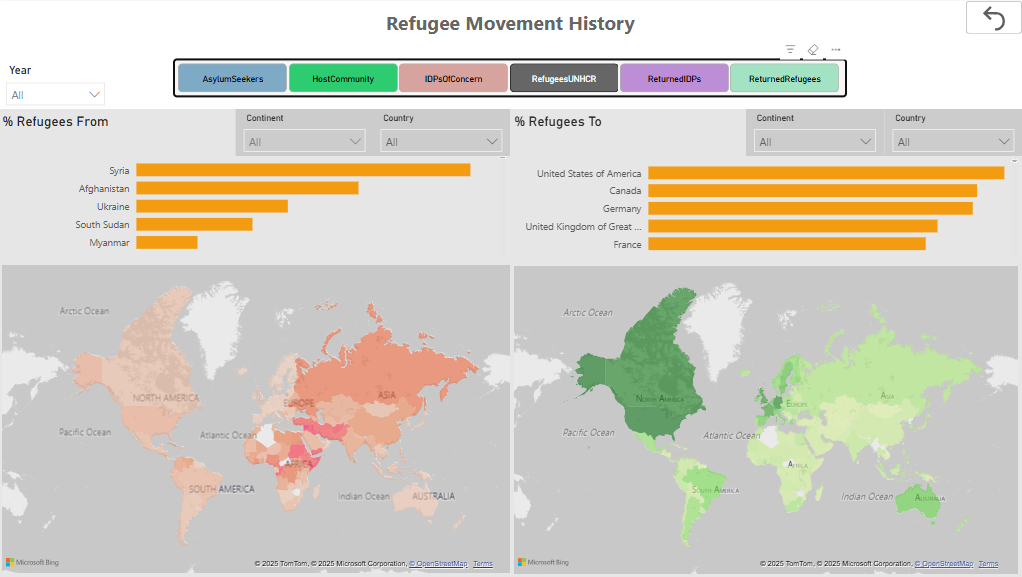

What the dashboard file says about the page in this screenshot:
{"tool":"powerbi","page":{"name":"Dashboard","canvas":[1280,720],"ordinal":0},"visuals":[{"type":"textbox","box":[462,5,356,47],"z":0},{"type":"slicer","fields":{"Values":["YearDim.Year"]},"box":[1122,56,143,61],"z":1000},{"type":"advancedSlicerVisual","fields":{"Values":["PopulationTypeDim.PopulationType"]},"box":[220,73,840,46],"z":2000},{"type":"filledMap","title":"Refugees Fleeing From","fields":{"Category":["RefugeeFact.CountryOrigin"]},"box":[0,325.5,648.2,394.5],"z":3000},{"type":"filledMap","title":"Refugee Fleeing To","fields":{"Category":["RefugeeFact.CountryAsylum"]},"box":[640,326.2,640,393.8],"z":4000},{"type":"group","id":"g1","title":"Group 1","box":[0,135,640,191.4],"z":5000},{"type":"barChart","title":"      ","fields":{"Series":["RefugeeFact.PopulationType"],"Category":["RefugeeFact.CountryAsylum"],"Y":["CountNonNull(RefugeeFact.PopulationCount)"]},"box":[640,167,640,160],"z":5000,"group":"g2"},{"type":"group","id":"g2","title":"Group 3","box":[640,135,640,192],"z":6000},{"type":"group","id":"g3","title":"Group 2","box":[640,135,640,51],"z":8000,"group":"g2"},{"type":"textbox","box":[0,135,297,59],"z":12000,"group":"g1"},{"type":"textbox","box":[640,135,145.7,31.9],"z":12000,"group":"g3"},{"type":"barChart","title":"      ","fields":{"Series":["RefugeeFact.PopulationType"],"Y":["Bar.Filtered Refugee Population"],"Category":["RefugeeFact.CountryOrigin"]},"box":[0,166.5,640,159.8],"z":13500,"group":"g1"},{"type":"slicer","fields":{"Values":["RefugeeFact.ContinentAsylum"]},"box":[935,135,173,51],"z":14500,"group":"g3"},{"type":"slicer","fields":{"Values":["RefugeeFact.CountryAsylum"]},"box":[1108,135,172,51],"z":15000,"group":"g3"},{"type":"slicer","fields":{"Values":["RefugeeFact.ContinentOrigin"]},"box":[296.6,135.3,172.4,56.2],"z":15500,"group":"g1"},{"type":"slicer","fields":{"Values":["RefugeeFact.CountryOrigin"]},"box":[467.6,135.3,172.4,56.2],"z":16000,"group":"g1"}]}

Visuals, with their boxes in screenshot pixels (x1, y1, x2, y2), scaled from the page's 1280x720 canvas onto the 1022x577 screenshot:
textbox: [left=369, top=4, right=653, bottom=42]
slicer - YearDim.Year: [left=896, top=45, right=1010, bottom=94]
advancedSlicerVisual - PopulationTypeDim.PopulationType: [left=176, top=59, right=846, bottom=95]
"Refugees Fleeing From" filledMap: [left=0, top=261, right=518, bottom=576]
"Refugee Fleeing To" filledMap: [left=511, top=261, right=1021, bottom=576]
"Group 1" group: [left=0, top=108, right=511, bottom=262]
"      " barChart: [left=511, top=134, right=1021, bottom=262]
"Group 3" group: [left=511, top=108, right=1021, bottom=262]
"Group 2" group: [left=511, top=108, right=1021, bottom=149]
textbox: [left=0, top=108, right=237, bottom=155]
textbox: [left=511, top=108, right=627, bottom=134]
"      " barChart: [left=0, top=133, right=511, bottom=261]
slicer - RefugeeFact.ContinentAsylum: [left=747, top=108, right=885, bottom=149]
slicer - RefugeeFact.CountryAsylum: [left=885, top=108, right=1021, bottom=149]
slicer - RefugeeFact.ContinentOrigin: [left=237, top=108, right=374, bottom=153]
slicer - RefugeeFact.CountryOrigin: [left=373, top=108, right=511, bottom=153]
